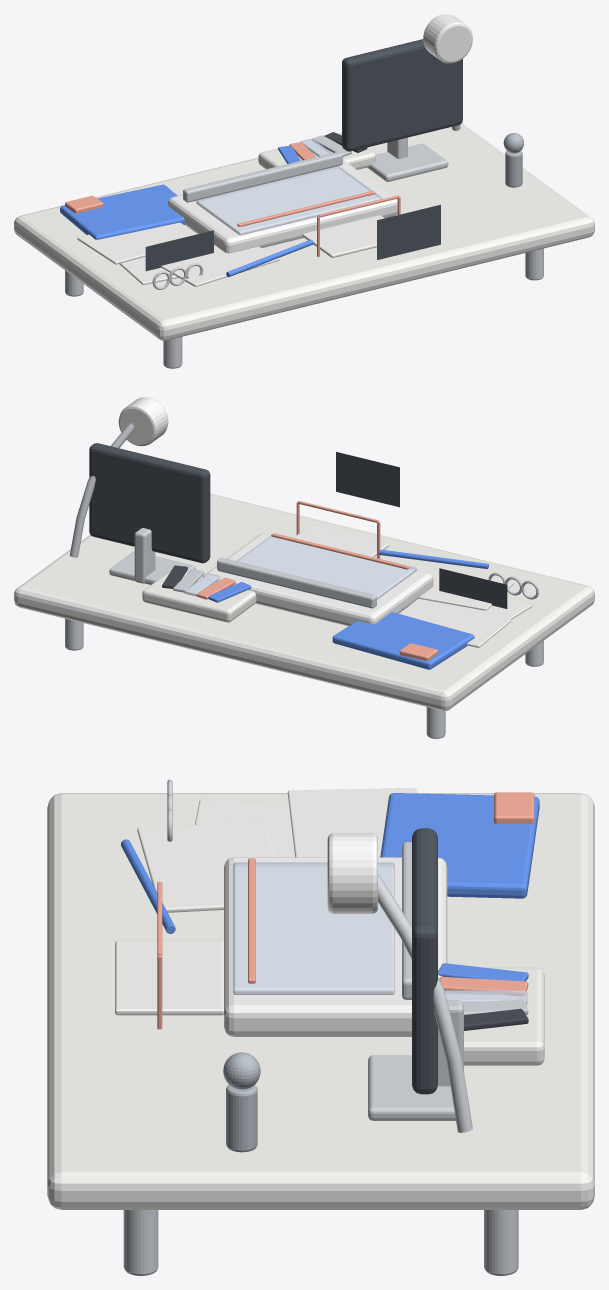
File: observe.glb
The picture shows the model from 3 angles, top to bottom: view 1: azimuth 30°, elevation 25°; view 2: azimuth 150°, elevation 25°; view 3: azimuth 270°, elevation 25°; orthographic projection. The views are drawn at different scales.
Visible parts, largest first — view 1: OBS_research_table, OBS_scanner_body, SCREEN_observe_inspection, OBS_scanner_bed, OBS_folder, OBS_monitor_frame, PRINT_observe_output, OBS_scanner_rail, OBS_paper_2, OBS_paper_1, OBS_output_card, OBS_lamp_shade (+9 smaller); view 2: OBS_research_table, OBS_monitor_frame, OBS_scanner_body, OBS_scanner_bed, OBS_folder, PRINT_observe_output, OBS_material_tray, OBS_scanner_rail, OBS_paper_2, OBS_lamp_shade, PRINT_observe_persona, OBS_output_card (+10 smaller); view 3: OBS_research_table, OBS_scanner_body, OBS_scanner_bed, OBS_folder, OBS_paper_1, OBS_output_card, OBS_monitor_frame, OBS_paper_2, OBS_material_tray, OBS_monitor_foot, OBS_lamp_shade, OBS_lamp_arm (+15 smaller).
Part boxes in pixels (x1,y1,x2,y2): OBS_research_table: (14,123,594,340); OBS_scanner_body: (168,160,397,253); SCREEN_observe_inspection: (356,52,456,143); OBS_scanner_bed: (196,166,382,235); OBS_folder: (60,184,184,239); OBS_monitor_frame: (342,39,462,151); PRINT_observe_output: (377,204,440,259); OBS_scanner_rail: (183,152,342,202); OBS_paper_2: (77,222,197,264); OBS_paper_1: (161,245,279,286); OBS_output_card: (302,215,384,257); OBS_lamp_shade: (423,14,472,63); OBS_research_table: (14,493,594,710); OBS_monitor_frame: (89,443,210,563); OBS_scanner_body: (203,533,433,626); OBS_scanner_bed: (236,533,416,599); OBS_folder: (332,612,474,669); PRINT_observe_output: (336,452,399,507); OBS_material_tray: (142,570,256,622); OBS_scanner_rail: (217,557,376,608); OBS_paper_2: (400,599,511,647); OBS_lamp_shade: (118,397,168,446); PRINT_observe_persona: (439,568,507,608); OBS_output_card: (294,524,389,557); OBS_research_table: (47,793,594,1209); OBS_scanner_body: (224,857,447,1036); OBS_scanner_bed: (233,862,394,994); OBS_folder: (380,793,539,898); OBS_paper_1: (137,821,275,912); OBS_output_card: (115,940,223,1015); OBS_monitor_frame: (412,828,437,1094); OBS_paper_2: (287,787,417,857); OBS_material_tray: (464,967,544,1065); OBS_monitor_foot: (368,1055,455,1120); OBS_lamp_shade: (327,833,377,913); OBS_lamp_arm: (378,874,472,1132).
Bounding box in the file's own units: 6.4 × 3.12 × 4.03.
